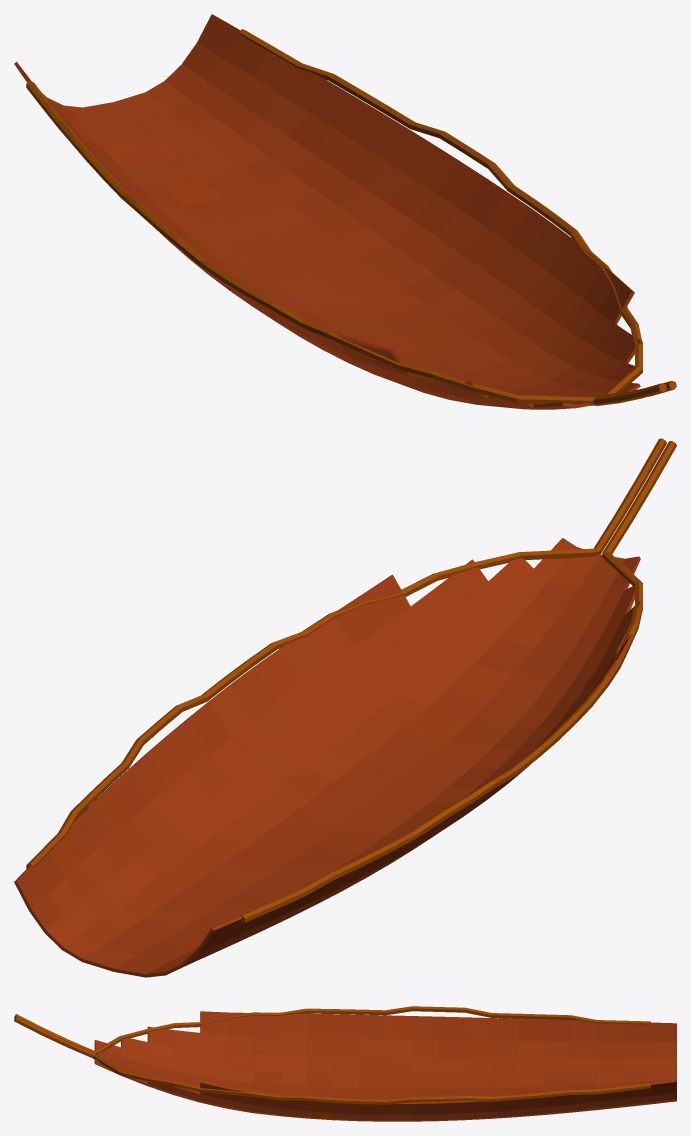
File: upgrade_copper_banded_hull.three-web-toon.glb
The picture shows the model from 3 angles, top to bottom: view 1: azimuth 30°, elevation 25°; view 2: azimuth 150°, elevation 25°; view 3: azimuth 270°, elevation 25°; orthographic projection. The views are drawn at different scales.
Visible parts, largest first — view 1: upgrade_copper_banded_hull_mesh; view 2: upgrade_copper_banded_hull_mesh; view 3: upgrade_copper_banded_hull_mesh.
Boxes of the visible parts, bbox=[...] form: upgrade_copper_banded_hull_mesh: bbox=[14, 14, 676, 409]; upgrade_copper_banded_hull_mesh: bbox=[14, 438, 676, 977]; upgrade_copper_banded_hull_mesh: bbox=[14, 1006, 676, 1121].
Bounding box in the file's own units: 3.2 × 1.44 × 9.64.
